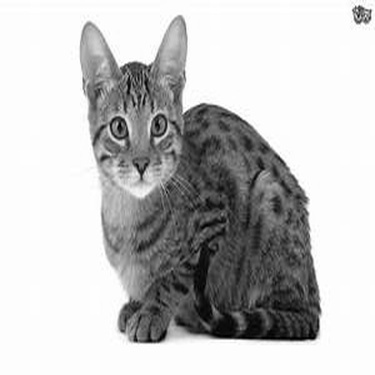cat: (75, 16, 325, 348)
